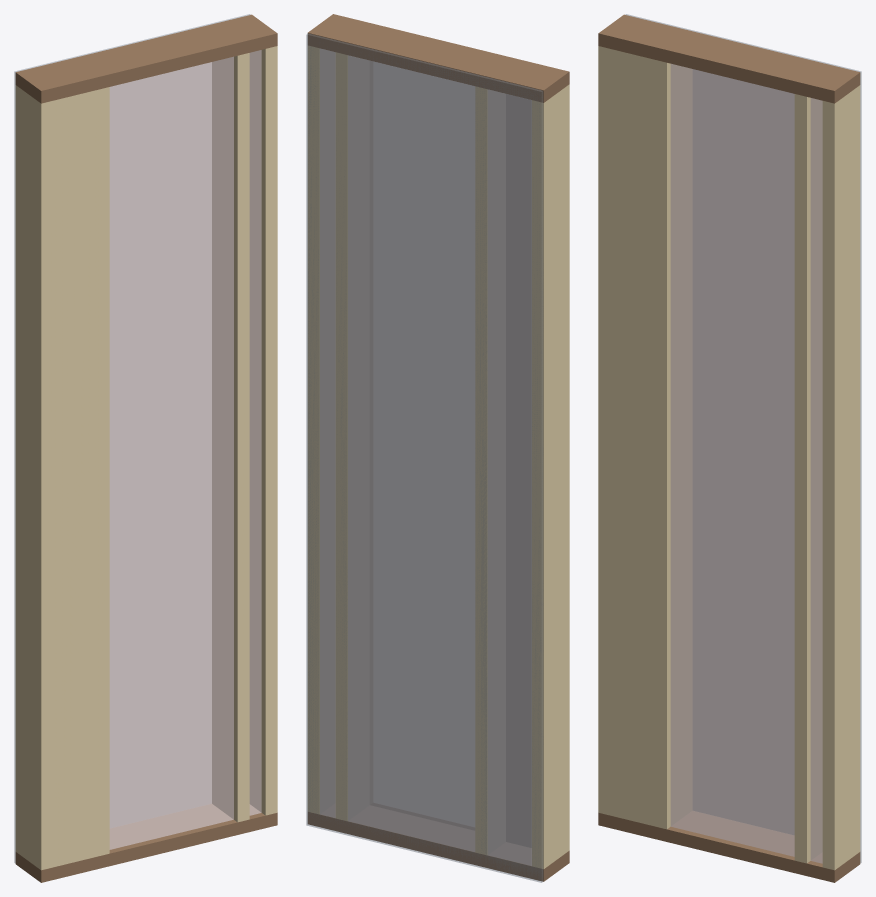
3 renders of one model, left to right at view 1: azimuth 30°, elevation 25°; view 2: azimuth 150°, elevation 25°; view 3: azimuth 330°, elevation 25°, orthographic.
Visible parts, largest first — view 1: EX17 GF; view 2: EX17 GF; view 3: EX17 GF.
Part boxes in pixels (x1,y1,x2,y2): EX17 GF: [14, 14, 277, 882]; EX17 GF: [306, 14, 569, 882]; EX17 GF: [598, 14, 861, 882].
Size of the model in its own units: 0.745 by 2.39 by 0.149.
